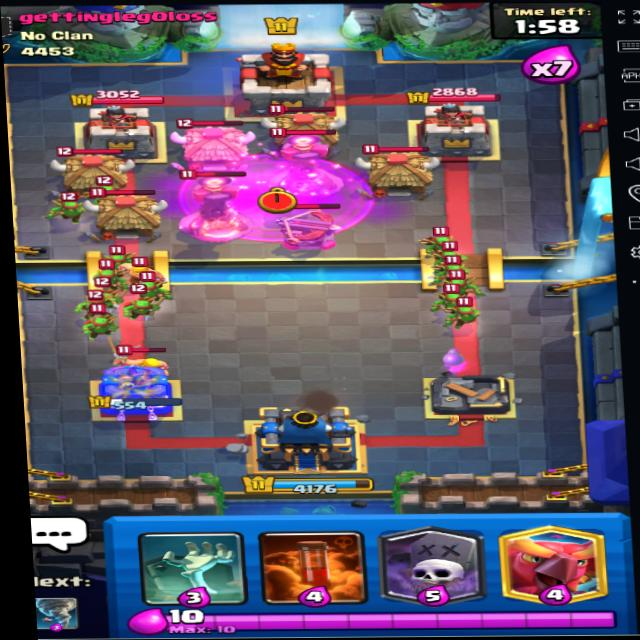Barbarian: (111, 343, 176, 378), (117, 256, 175, 287)
Goblinhut: (80, 183, 172, 239), (167, 115, 256, 172), (260, 102, 349, 156), (359, 142, 439, 198), (54, 147, 139, 197)
Infernotower: (170, 164, 268, 249), (266, 124, 340, 195)
Rage: (183, 149, 374, 238)
Speargoblin: (427, 282, 469, 320), (444, 297, 481, 331), (122, 289, 165, 318), (78, 285, 119, 314), (79, 311, 116, 341), (437, 240, 472, 271), (441, 273, 479, 298), (421, 230, 456, 254), (443, 259, 475, 284), (140, 277, 173, 301), (49, 193, 78, 220), (102, 244, 129, 270), (98, 260, 126, 283)
Xbow: (261, 194, 349, 249)
